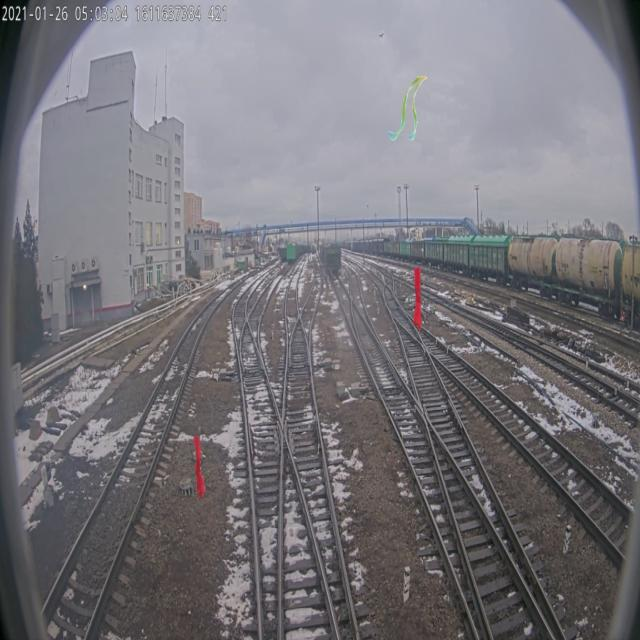floating object: (387, 76, 429, 140), (193, 435, 206, 499), (413, 266, 422, 331)
